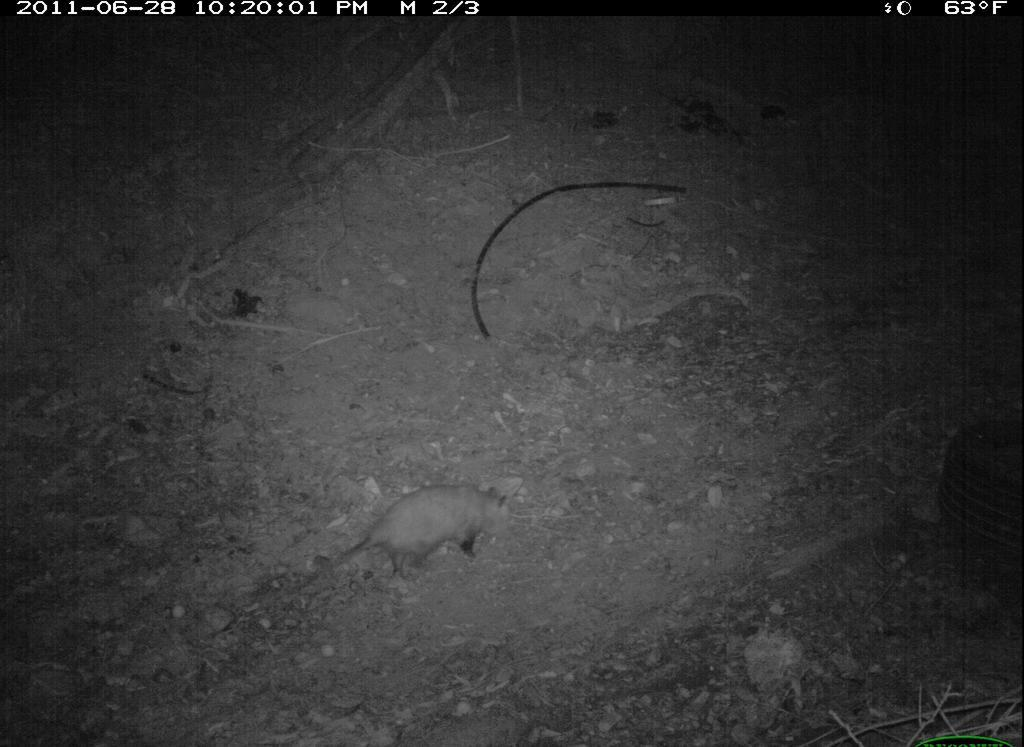opossum: (281, 470, 538, 614)
